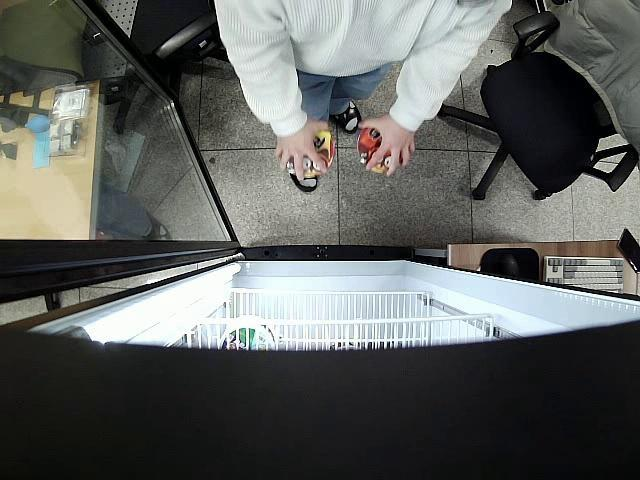05_nuguri_L: (276, 129, 336, 178), (356, 126, 404, 175)
